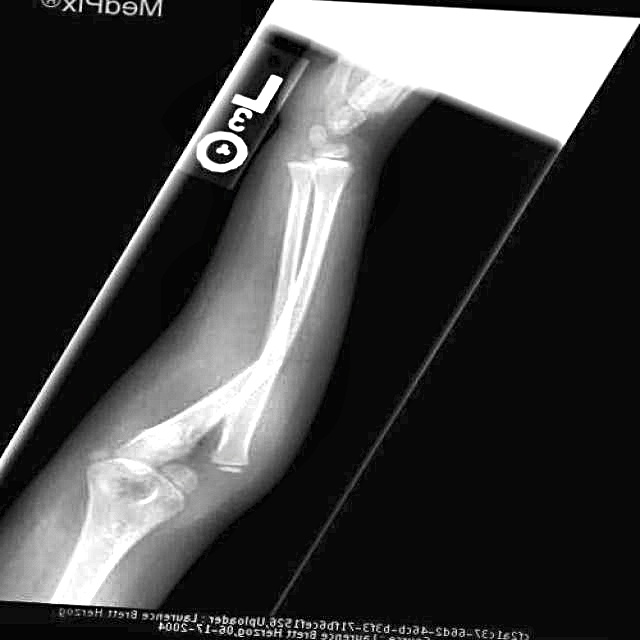Spiral: (221, 307, 296, 418)
